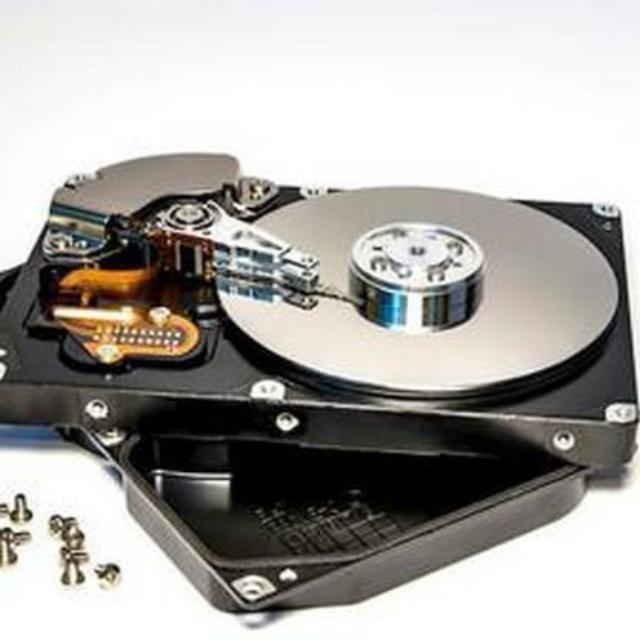DISK: (0, 134, 640, 463)
